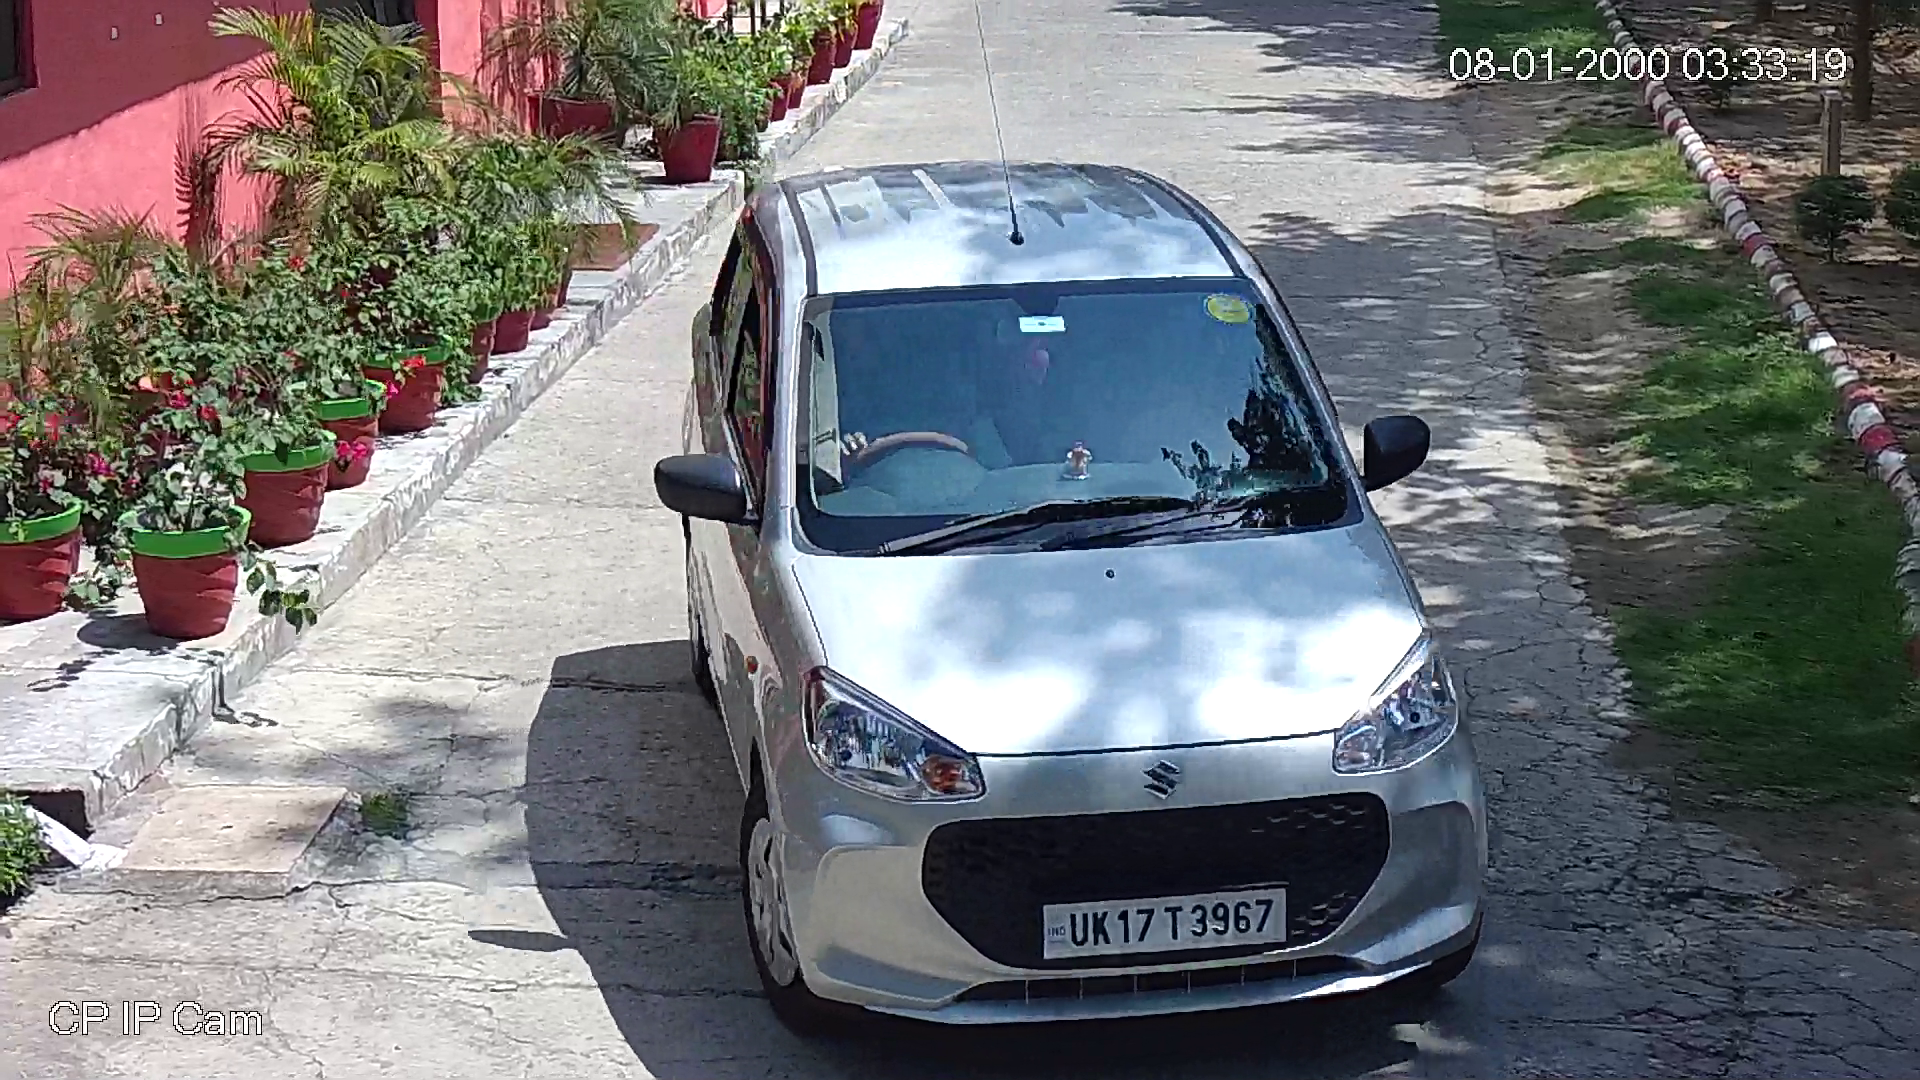plate: (1036, 876, 1290, 965)
